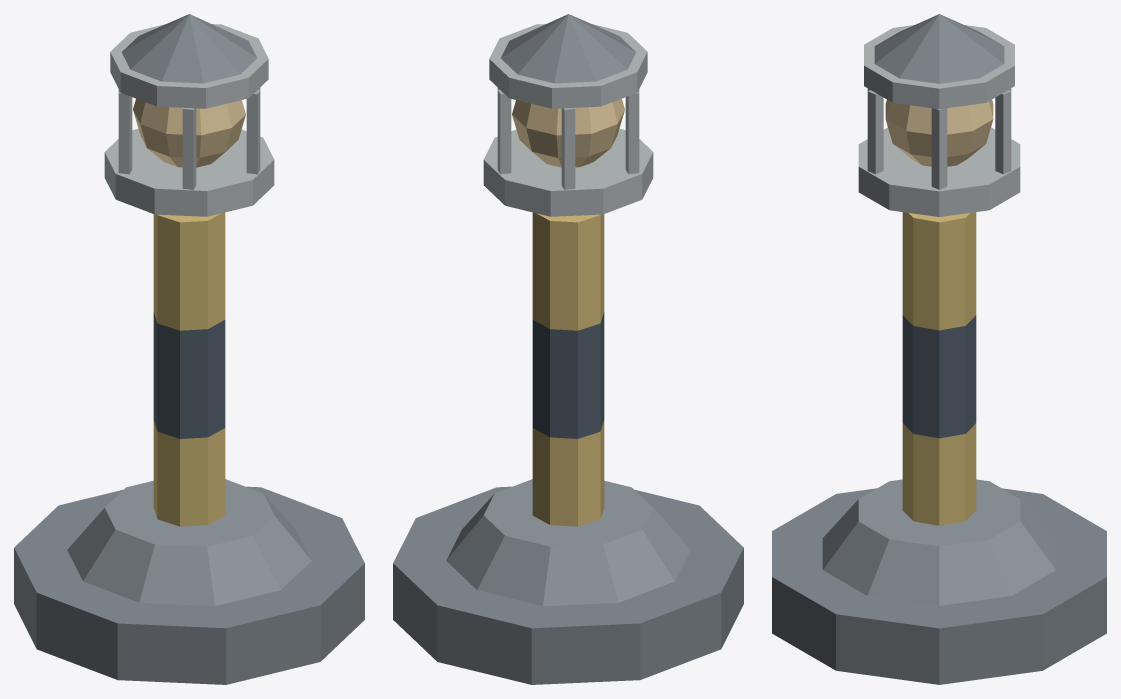
3 renders of one model, left to right at view 1: azimuth 30°, elevation 25°; view 2: azimuth 150°, elevation 25°; view 3: azimuth 270°, elevation 25°, orthographic.
Visible parts, largest first — view 1: sea_beacon; view 2: sea_beacon; view 3: sea_beacon.
Boxes of the visible parts, bbox=[...] form: sea_beacon: bbox=[14, 14, 364, 684]; sea_beacon: bbox=[393, 14, 743, 684]; sea_beacon: bbox=[772, 14, 1106, 684].
Bounding box in the file's own units: 1.24 × 2.32 × 1.18.
